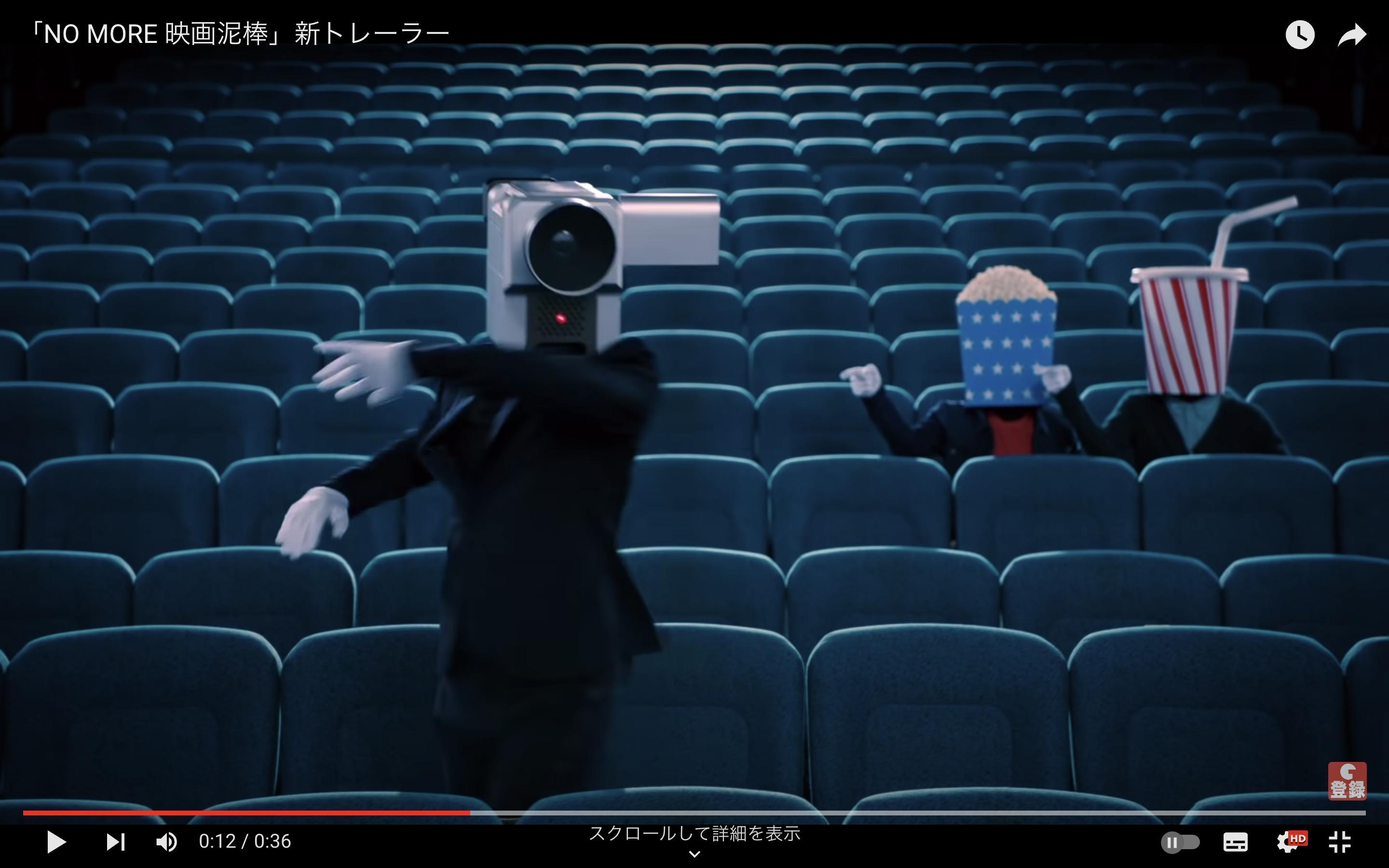no more kid: (453, 153, 749, 390)
